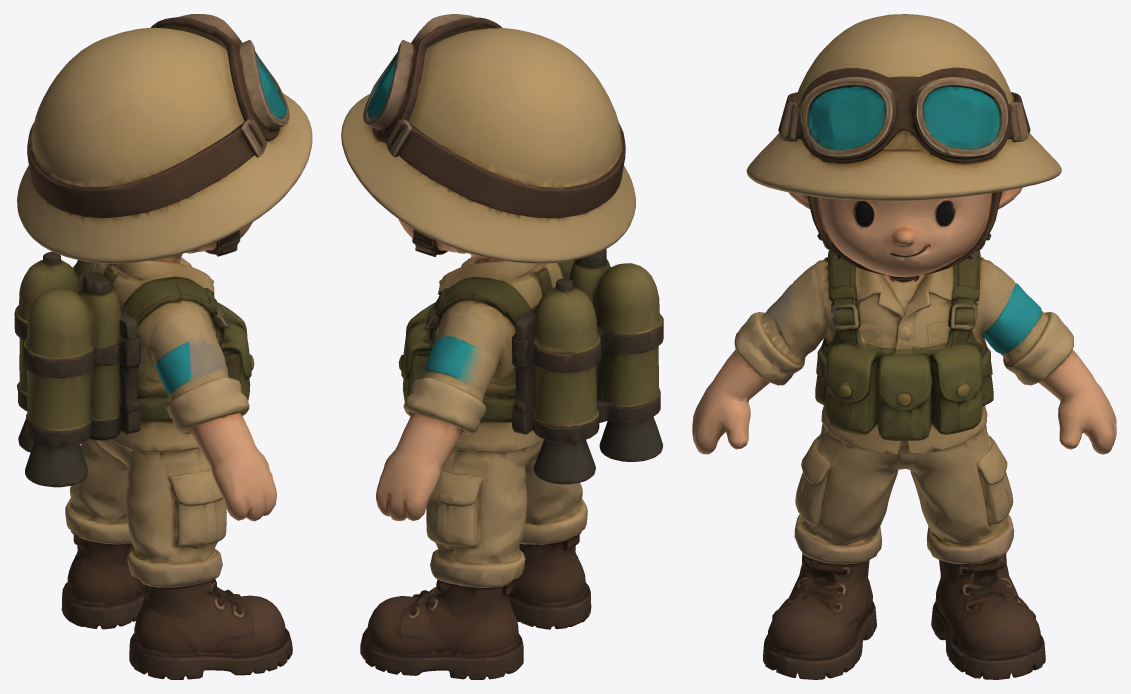
File: rookie_tripo_raw.glb
3 renders of one model, left to right at view 1: azimuth 30°, elevation 25°; view 2: azimuth 150°, elevation 25°; view 3: azimuth 270°, elevation 25°, orthographic. The views are drawn at different scales.
Visible parts, largest first — view 1: tripo_node_10f98c35-ac91-4df9-95dc-864b0343a3fe; view 2: tripo_node_10f98c35-ac91-4df9-95dc-864b0343a3fe; view 3: tripo_node_10f98c35-ac91-4df9-95dc-864b0343a3fe.
Part boxes in pixels (x1,y1,x2,y2): tripo_node_10f98c35-ac91-4df9-95dc-864b0343a3fe: (14, 14, 312, 679); tripo_node_10f98c35-ac91-4df9-95dc-864b0343a3fe: (341, 14, 663, 679); tripo_node_10f98c35-ac91-4df9-95dc-864b0343a3fe: (692, 14, 1116, 679).
Size of the model in its own units: 0.4942 by 1 by 0.6295.
1 material, 1 textured.
